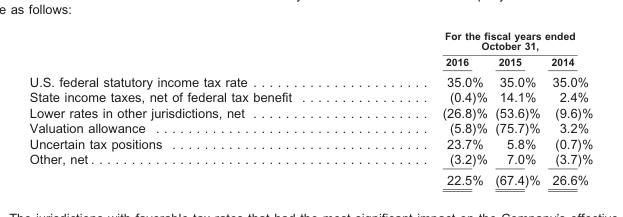table: (28, 29, 592, 186)
table column: (28, 29, 366, 186), (366, 29, 490, 186), (490, 29, 545, 186), (545, 29, 592, 186)
table column header: (28, 29, 592, 70)
table row: (28, 29, 592, 53), (28, 70, 592, 88), (28, 150, 592, 168), (28, 168, 592, 186), (28, 53, 592, 70), (28, 88, 592, 104), (28, 119, 592, 135), (28, 104, 592, 119), (28, 135, 592, 150)
table spanning cell: (366, 29, 592, 53)
